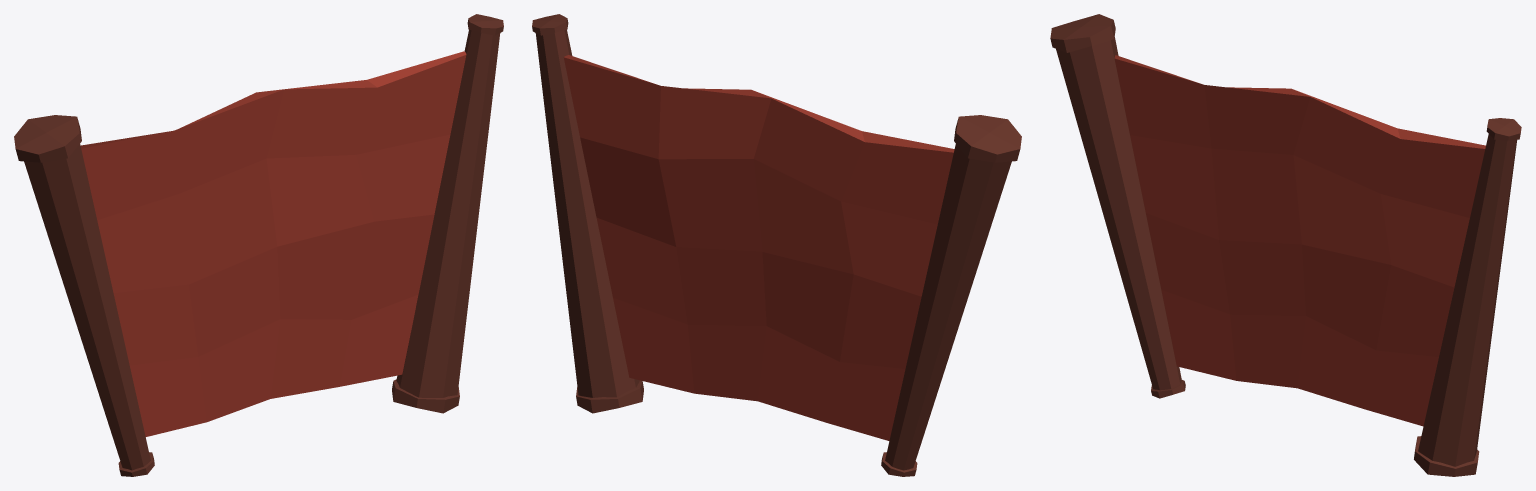
The model's file is Parchment_5_Red.fbx.
The picture shows the model from 3 angles, left to right: view 1: azimuth 30°, elevation 25°; view 2: azimuth 150°, elevation 25°; view 3: azimuth 330°, elevation 25°; orthographic projection. The views are drawn at different scales.
Parts seen in each view (by area): view 1: Parchment_5_Red_Part_2, Parchment_5_Red_Part_1; view 2: Parchment_5_Red_Part_2, Parchment_5_Red_Part_1; view 3: Parchment_5_Red_Part_2, Parchment_5_Red_Part_1.
Part boxes in pixels (bbox=[...]): Parchment_5_Red_Part_2: bbox=[80, 51, 466, 436]; Parchment_5_Red_Part_1: bbox=[14, 14, 503, 476]; Parchment_5_Red_Part_2: bbox=[563, 55, 954, 440]; Parchment_5_Red_Part_1: bbox=[532, 14, 1021, 476]; Parchment_5_Red_Part_2: bbox=[1114, 55, 1485, 426]; Parchment_5_Red_Part_1: bbox=[1050, 14, 1521, 476].
Bounding box in the file's own units: 43.58 × 31.94 × 5.71.
